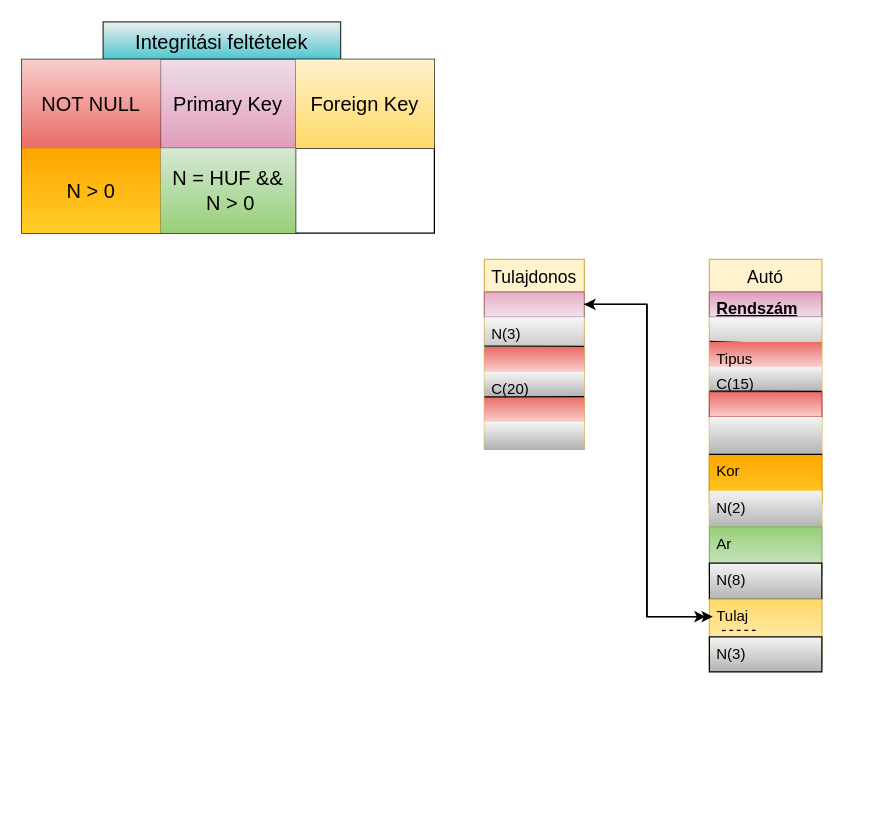
Image size: 881x823. Some labels were removed from this diagram. The centre of each missing label's shape, as x and y in pixels:
"(C7)" goes at point 765,328.
"C(10)" goes at point 534,435.
"C(9)" goes at point 765,435.
"Cím" goes at point 534,408.
"Név" goes at point 534,358.
"Szin" goes at point 765,404.
"Tkod" goes at point 533,304.
